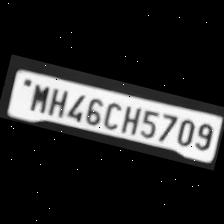0: (171, 114, 198, 148)
4: (62, 88, 89, 122)
5: (135, 105, 162, 139)
6: (80, 92, 106, 126)
7: (154, 109, 178, 144)
9: (189, 116, 217, 153)
C: (98, 96, 124, 130)
H: (116, 101, 142, 135), (44, 84, 68, 116)
M: (24, 79, 51, 114)
